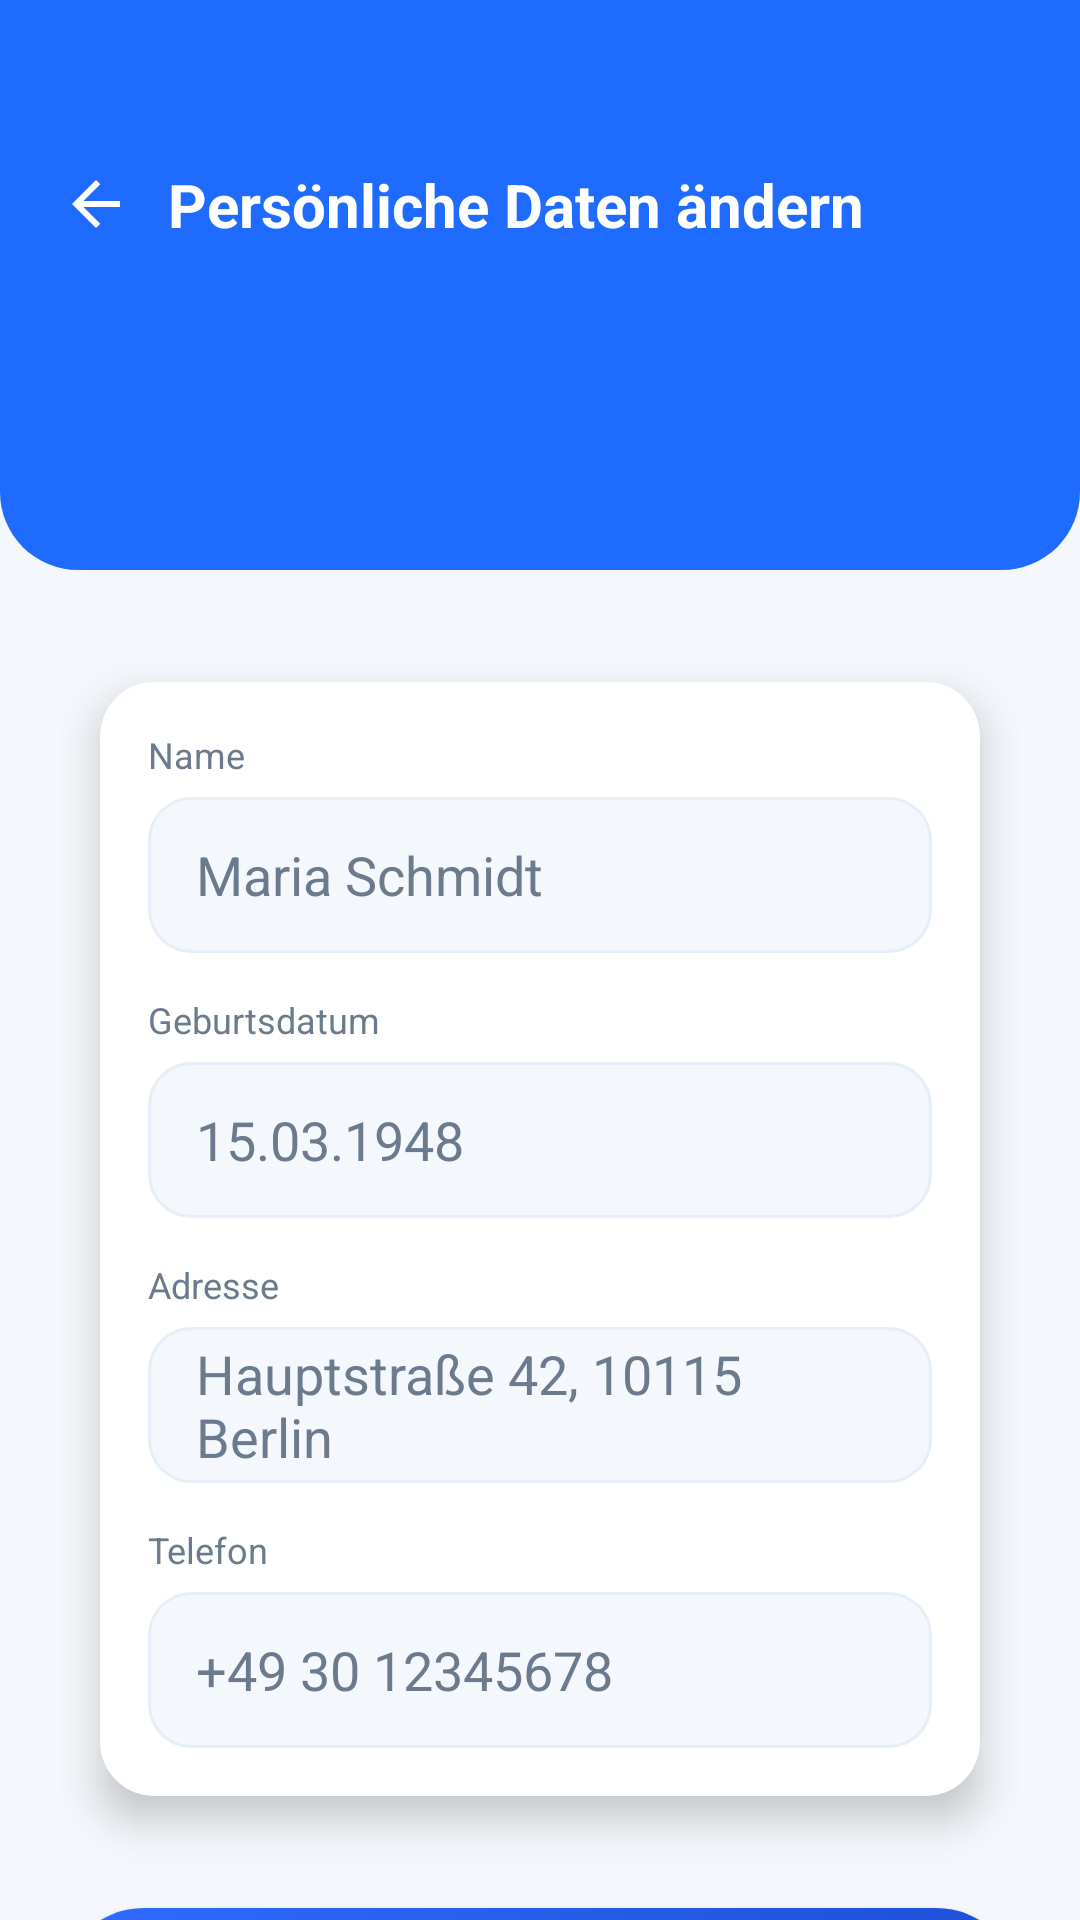

Icons on this 1080 x 1920 Android screen, each with the point to tap as point (x, y):
back: point (96, 204)
